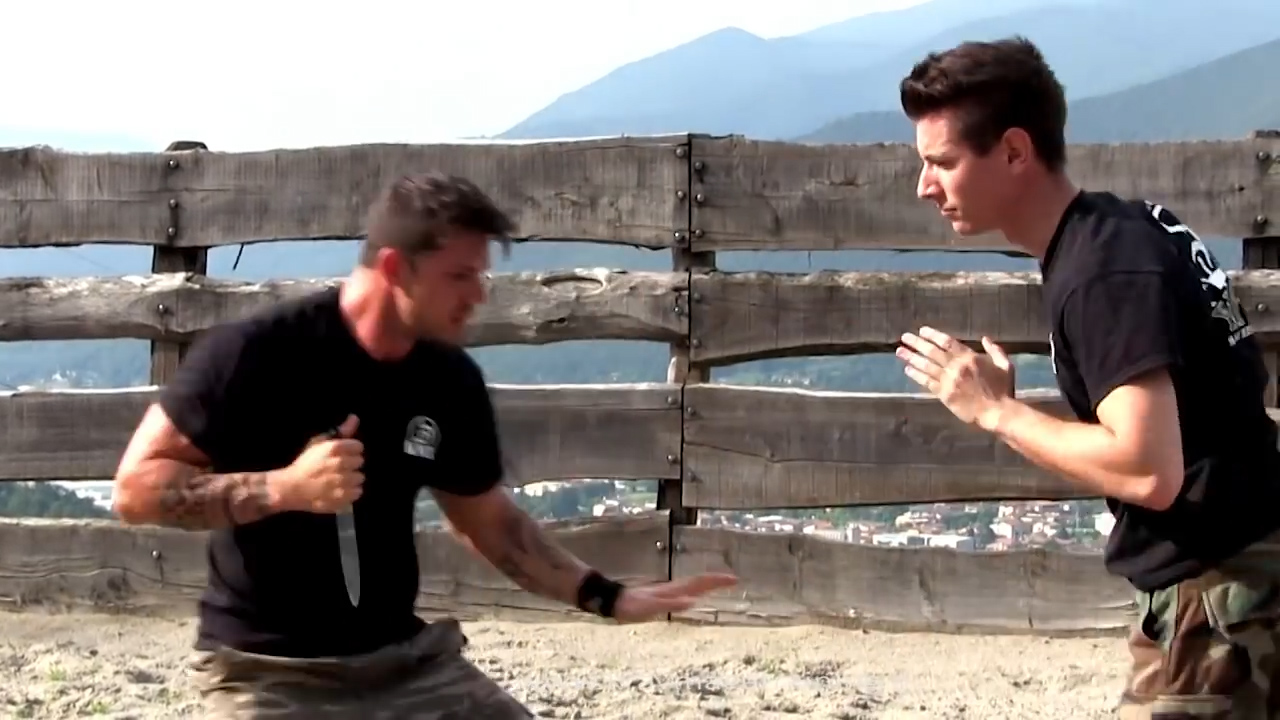knife: (312, 411, 378, 616)
